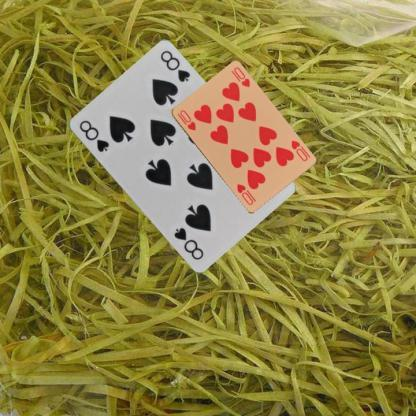10h: (174, 107, 198, 132), (288, 138, 312, 162)
8s: (76, 118, 110, 154)
